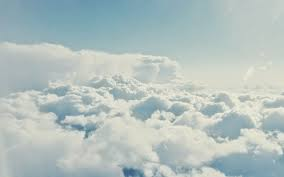sky: (1, 3, 279, 177)
